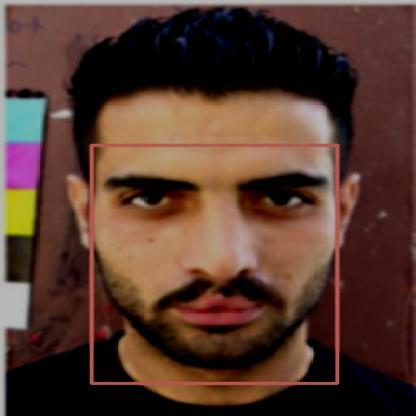without_mask: (91, 145, 337, 383)
